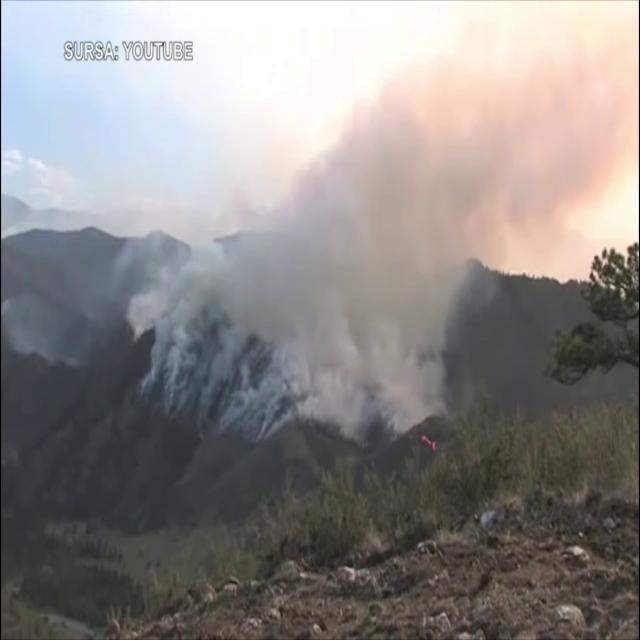Smoke: (126, 1, 622, 446)
